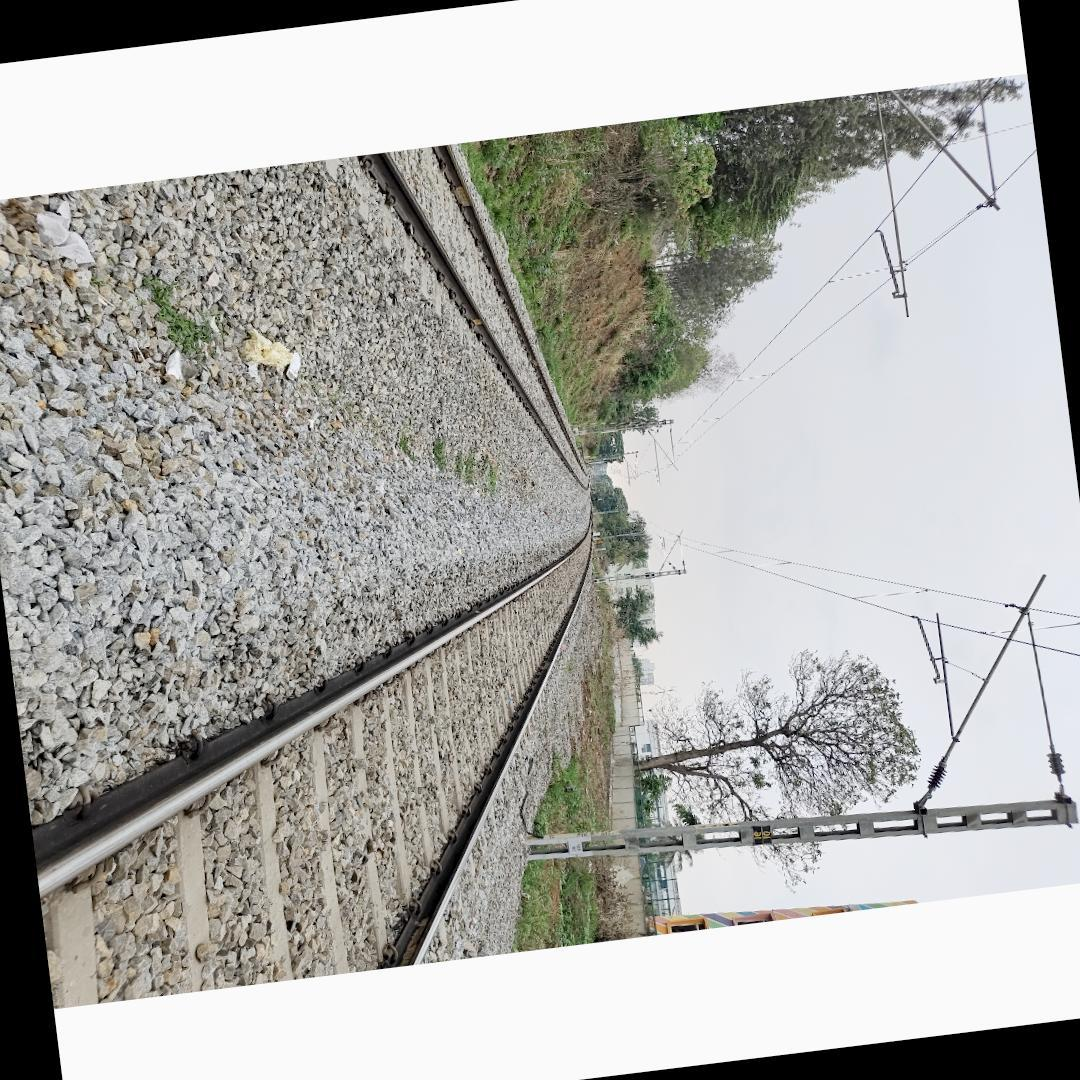track: (33, 500, 597, 1004)
